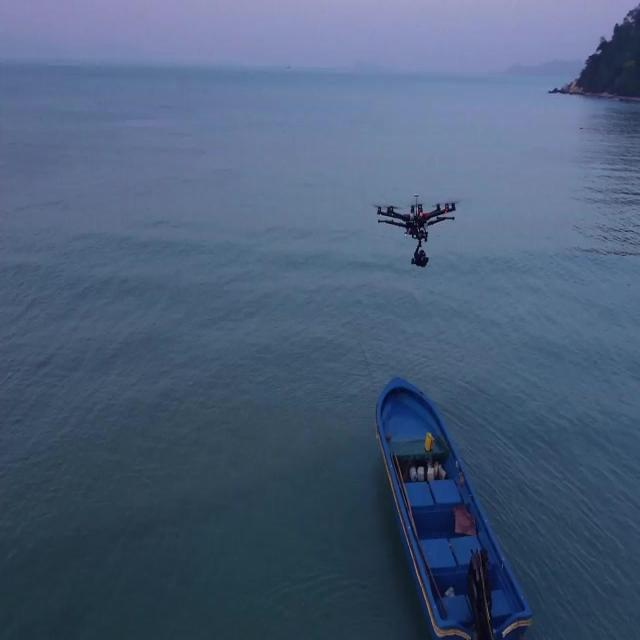drone: (374, 192, 458, 272)
